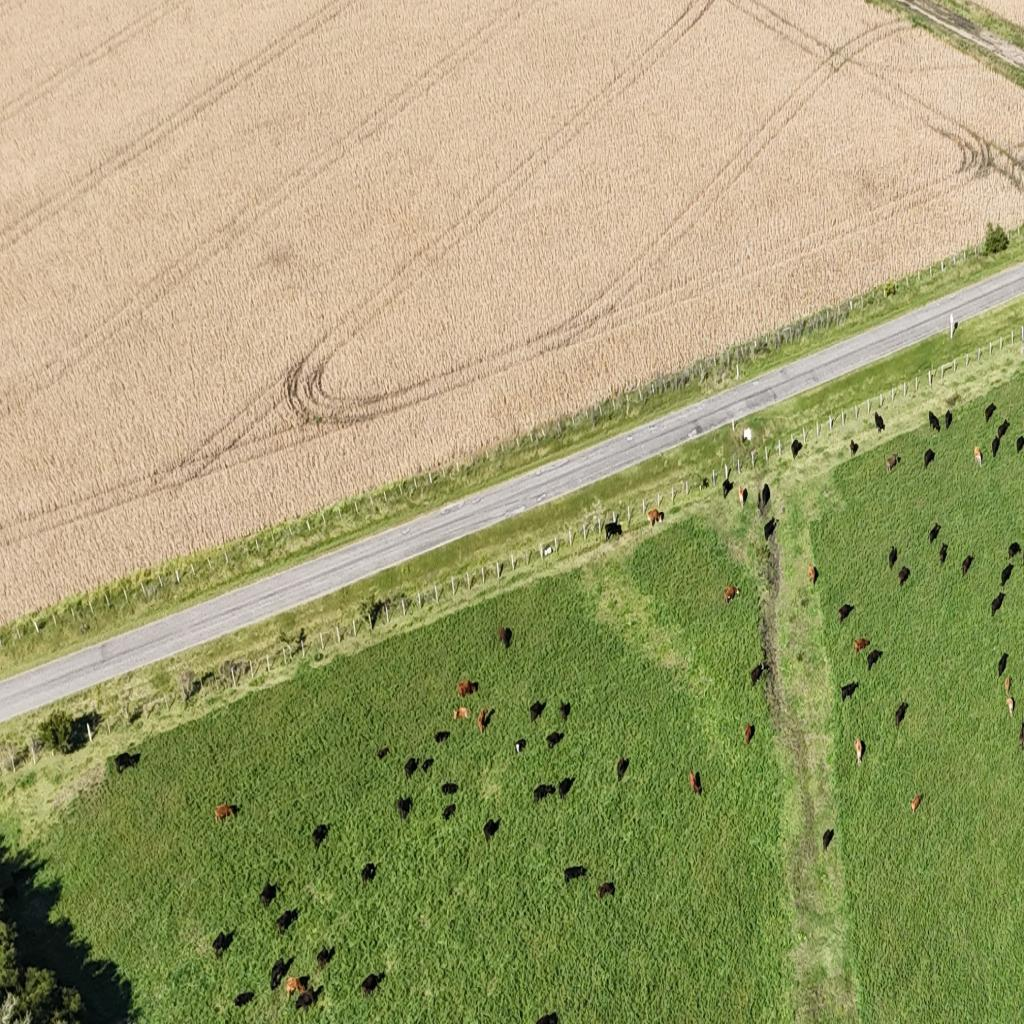cow: (756, 480, 776, 516), (212, 929, 234, 959), (270, 956, 288, 990), (114, 752, 141, 774), (360, 972, 383, 996), (275, 909, 296, 935), (259, 881, 278, 908), (285, 975, 307, 998), (295, 987, 317, 1009), (316, 945, 334, 970), (532, 784, 554, 804), (483, 817, 500, 842), (564, 865, 586, 884), (312, 824, 329, 848), (397, 794, 412, 821), (214, 804, 236, 822), (895, 700, 908, 730), (360, 862, 376, 886), (840, 681, 858, 702), (457, 679, 478, 697), (688, 769, 702, 796), (1007, 538, 1024, 560), (477, 708, 491, 734), (404, 756, 419, 780), (750, 662, 765, 686), (234, 990, 254, 1008), (605, 521, 622, 542), (530, 700, 546, 722), (558, 776, 574, 798), (866, 648, 882, 670), (838, 602, 854, 624), (647, 506, 663, 528), (498, 625, 512, 650), (546, 730, 563, 750), (616, 756, 629, 782), (535, 1010, 559, 1024), (598, 880, 614, 900), (854, 737, 865, 766), (1001, 562, 1014, 586), (822, 827, 834, 853), (756, 652, 769, 676), (991, 594, 1005, 616), (442, 802, 457, 822), (723, 585, 738, 605), (997, 419, 1011, 440), (764, 516, 776, 540), (998, 652, 1009, 678), (961, 554, 973, 577), (886, 454, 900, 473), (929, 410, 941, 432), (559, 700, 571, 722), (744, 722, 755, 746), (898, 566, 910, 587), (924, 449, 936, 470), (854, 637, 868, 655), (984, 403, 996, 423), (452, 706, 468, 721), (1005, 693, 1015, 717), (441, 781, 458, 795), (791, 438, 802, 459), (722, 479, 733, 500), (929, 524, 940, 544), (991, 436, 1001, 458), (939, 543, 949, 565), (875, 411, 885, 433), (808, 565, 818, 587), (889, 545, 898, 569), (434, 730, 450, 743), (911, 794, 922, 812), (421, 757, 434, 772), (514, 738, 526, 754), (974, 446, 982, 470), (738, 486, 747, 506), (945, 410, 953, 430), (1004, 676, 1012, 696), (377, 746, 389, 759), (850, 440, 859, 457), (1020, 718, 1024, 748), (1019, 435, 1024, 454)
